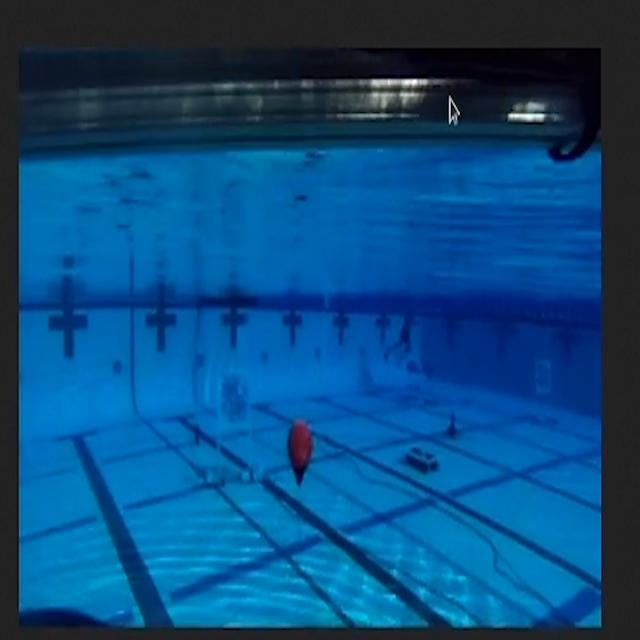Buoy: (284, 409, 316, 504)
